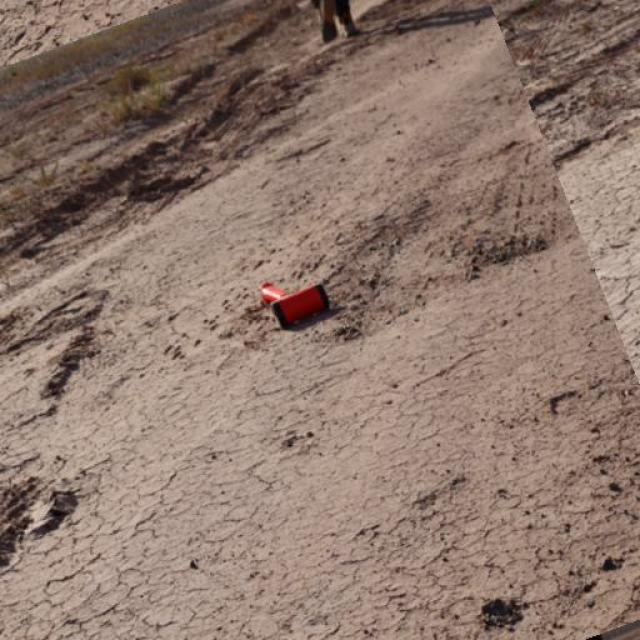mallet: (258, 279, 330, 329)
